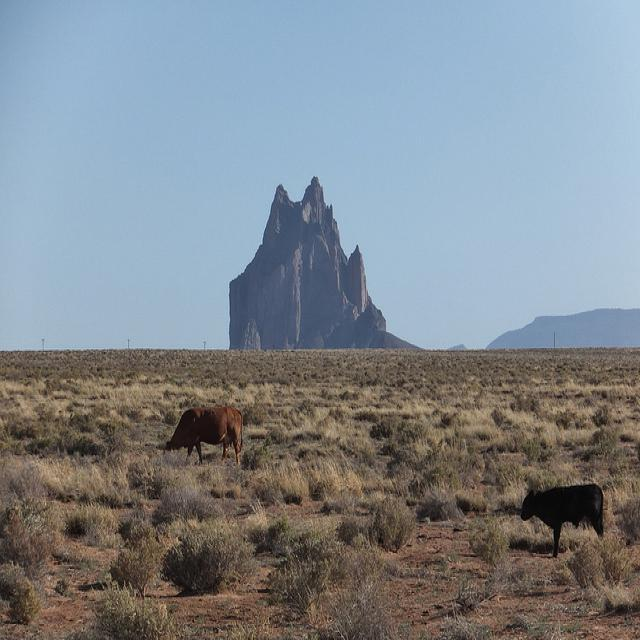cow: (517, 482, 605, 552), (162, 402, 243, 463)
